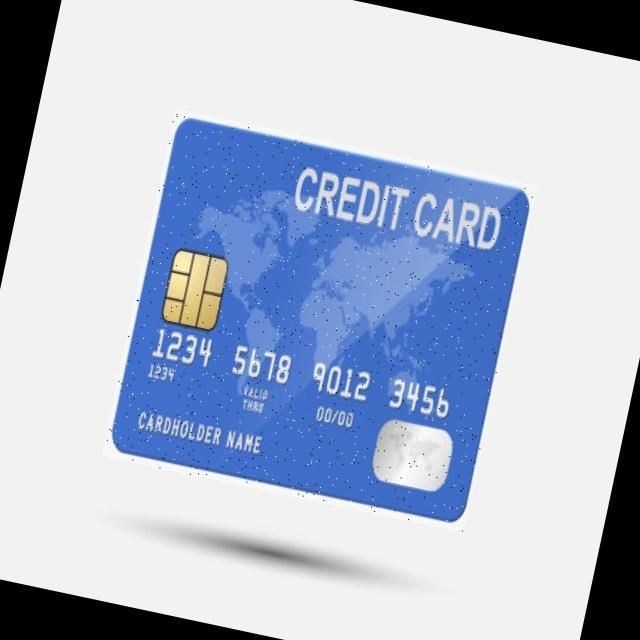payment_card: (109, 114, 531, 525)
